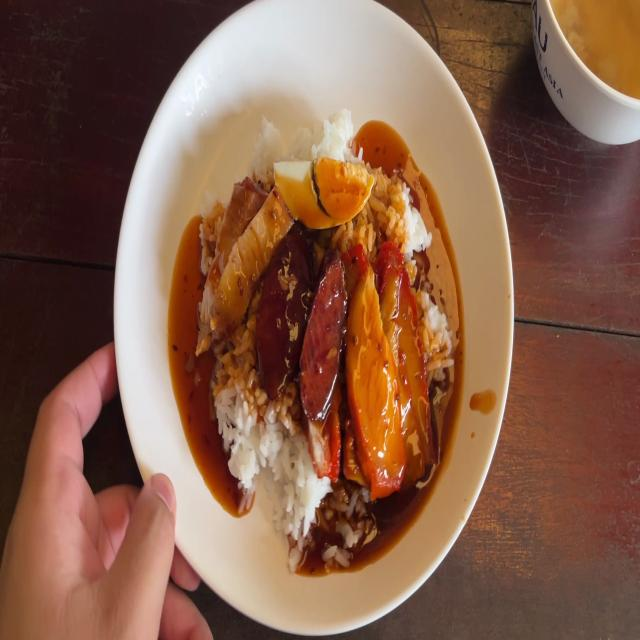red_pork_and_crispy_pork: (272, 158, 374, 227)
stir_fried_basil: (255, 237, 348, 394)
